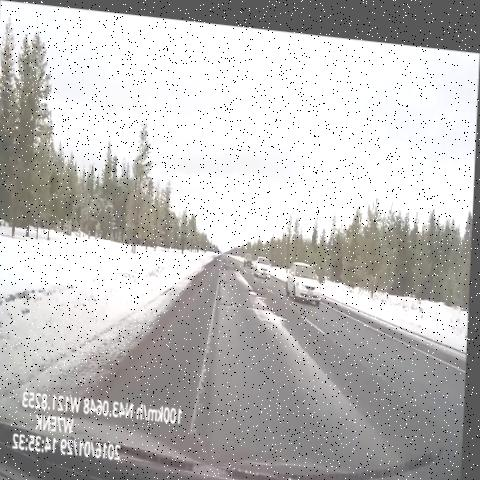pothole: (244, 276, 276, 303), (218, 250, 247, 271), (215, 291, 239, 305), (221, 267, 232, 281)
